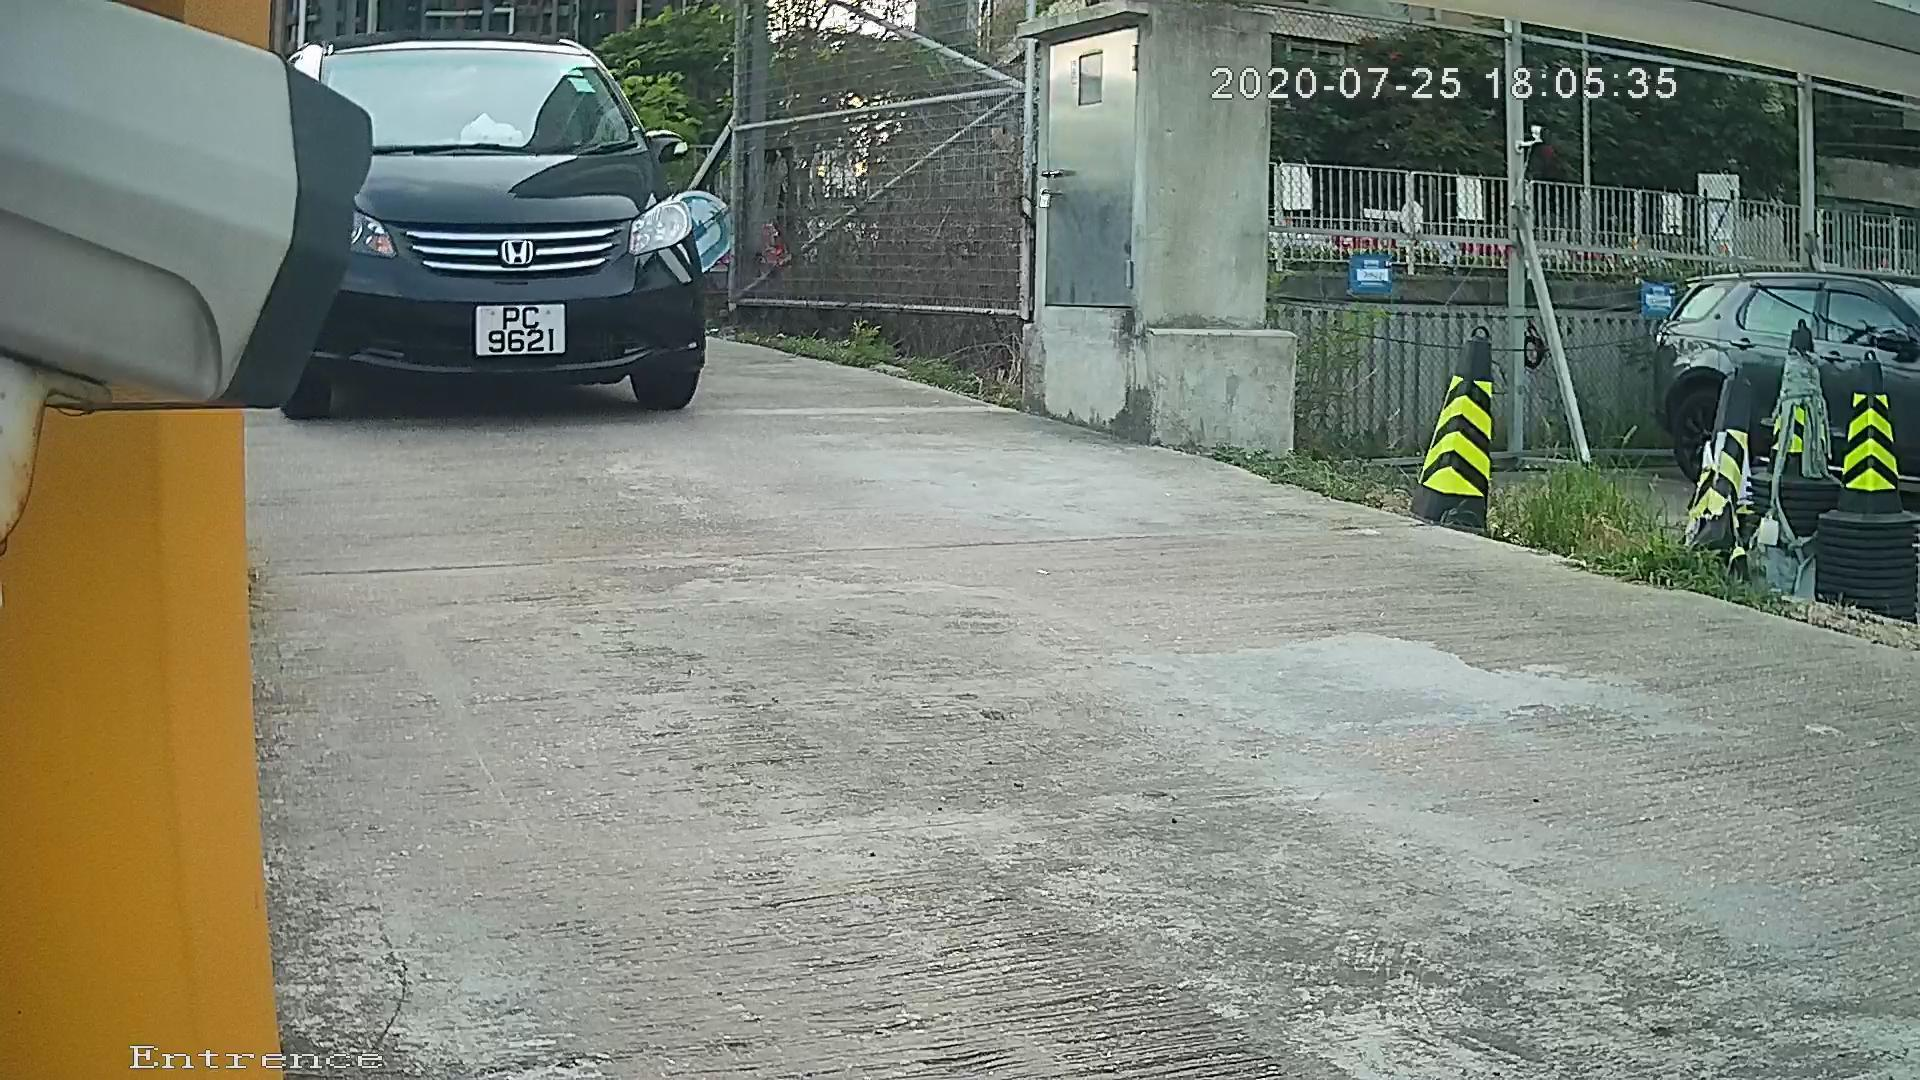privatecar: (189, 11, 798, 473)
